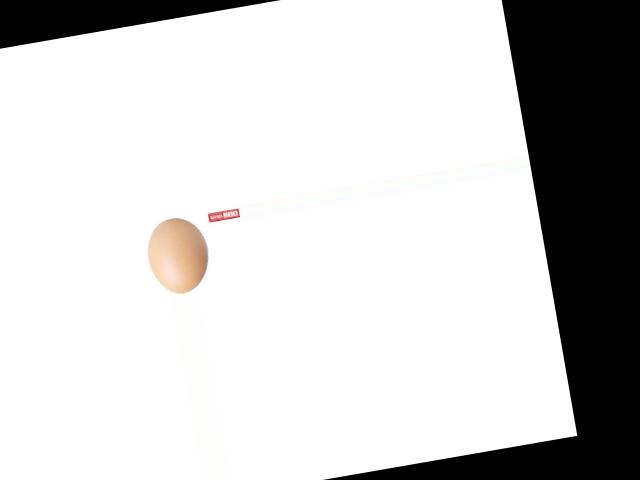egg: (142, 213, 213, 297)
